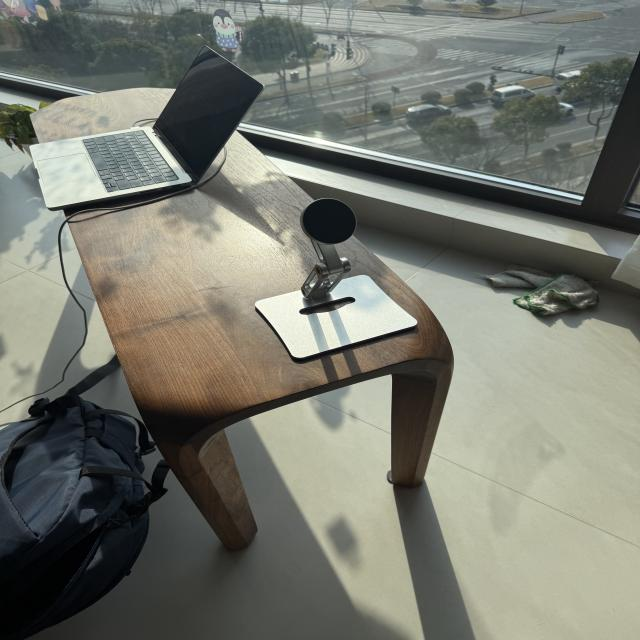phone holder: (240, 195, 420, 362)
